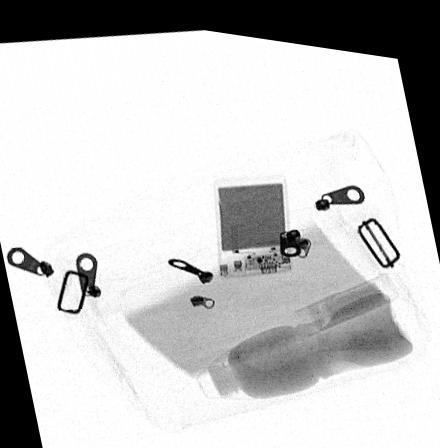Powerbank: (211, 166, 291, 271)
